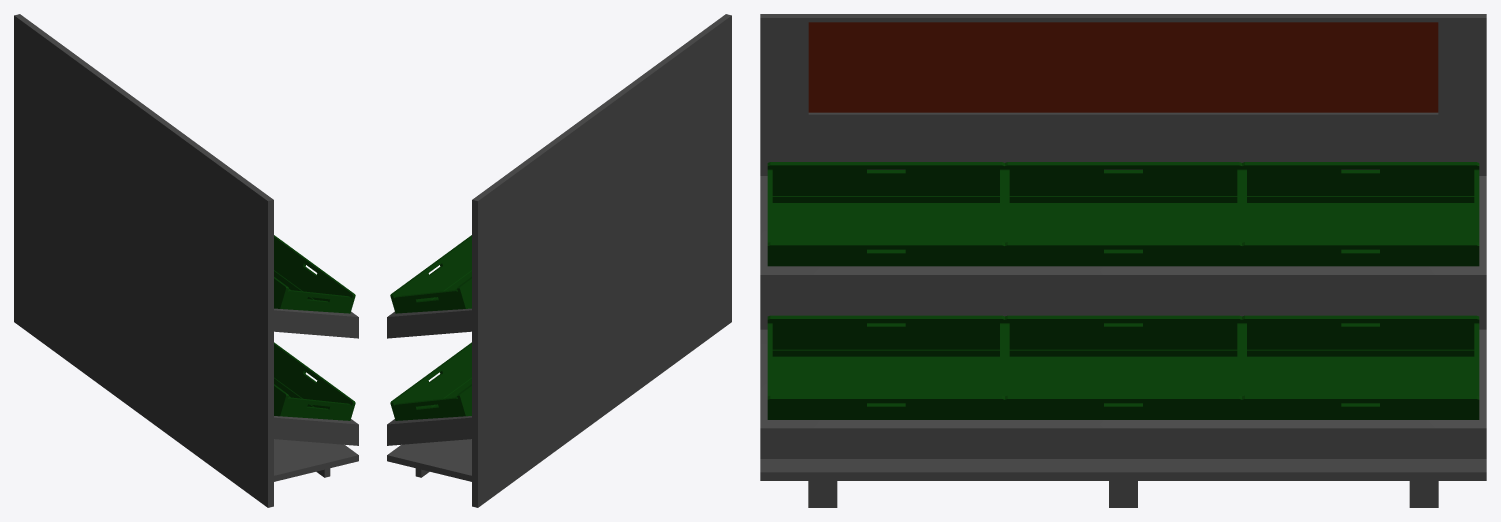
Rendered from Vegetable rack (1x3).fbx.
3 views of the same model, side by side, from view 1: azimuth 30°, elevation 25°; view 2: azimuth 150°, elevation 25°; view 3: azimuth 270°, elevation 25° (orthographic). The views are drawn at different scales.
Visible parts, largest first — view 1: Vegetable_rack, VRS_L1, VRS_L1_2; view 2: Vegetable_rack, VRS_R2, VRS_R1; view 3: Vegetable_rack, VRS_R2, VRS_L1, VRS_R1, VRS_L1_2, VRS_C2, VRS_C1.
Boxes of the visible parts, left/top/right/bottom form: Vegetable_rack: left=14, top=14, right=358, bottom=507; VRS_L1: left=274, top=235, right=355, bottom=313; VRS_L1_2: left=274, top=342, right=355, bottom=420; Vegetable_rack: left=387, top=14, right=731, bottom=507; VRS_R2: left=390, top=235, right=471, bottom=313; VRS_R1: left=390, top=342, right=471, bottom=420; Vegetable_rack: left=760, top=14, right=1486, bottom=507; VRS_R2: left=1242, top=162, right=1479, bottom=266; VRS_L1: left=767, top=162, right=1004, bottom=266; VRS_R1: left=1242, top=315, right=1479, bottom=419; VRS_L1_2: left=767, top=315, right=1004, bottom=419; VRS_C2: left=1005, top=162, right=1241, bottom=266; VRS_C1: left=1005, top=315, right=1241, bottom=419.
Bounding box in the file's own units: 62 × 200 × 300.
